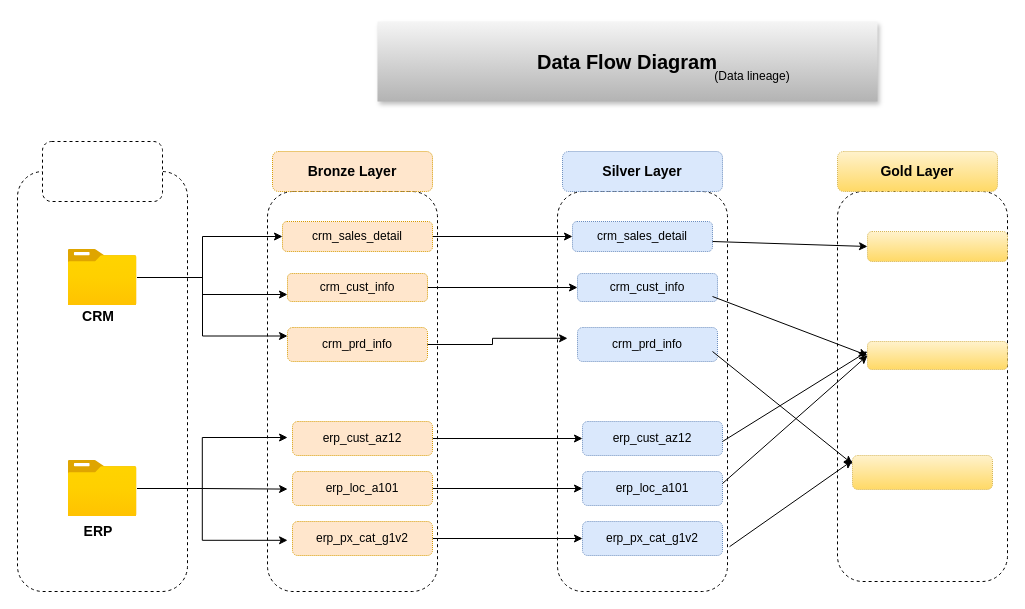
The diagram is 1025 pixels wide and 609 high, and some of its shapes have lost their labels. Each missing label, with the centre of its shape:
dim_customers: the point at 937,355
dim_products: the point at 922,472
fact_sales: the point at 937,246
Sources: the point at 102,171
